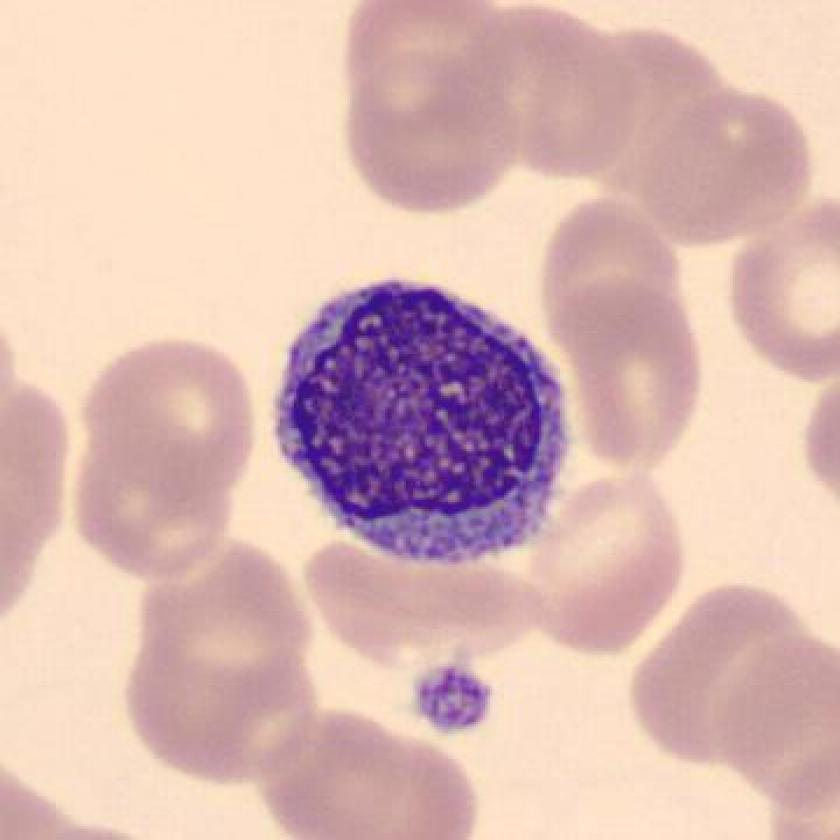monocyte: (267, 262, 584, 589)
